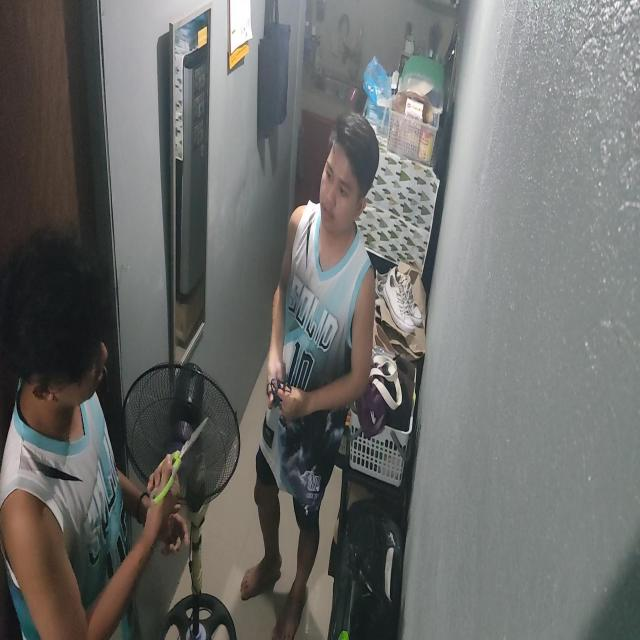scissor: (150, 415, 210, 506)
